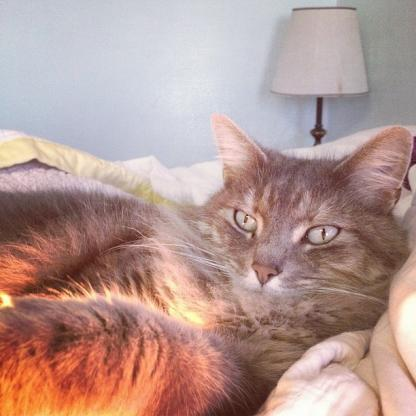Target: (2, 110, 414, 416)
